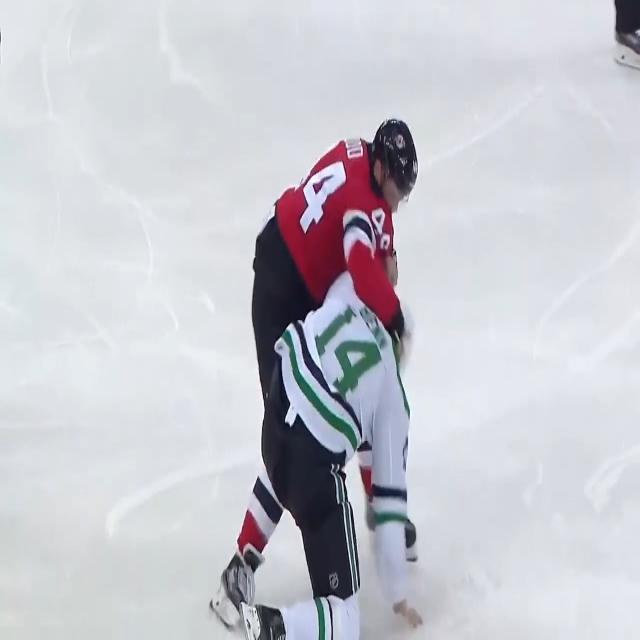fight: (239, 82, 459, 640)
